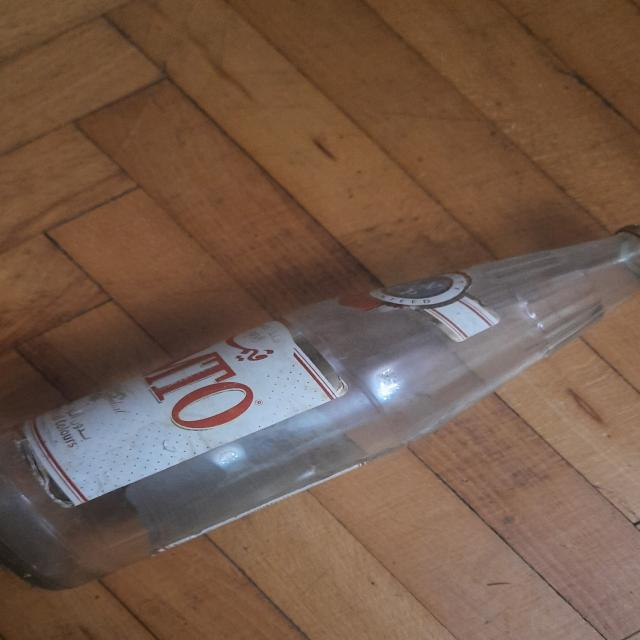glass: (0, 221, 640, 591)
